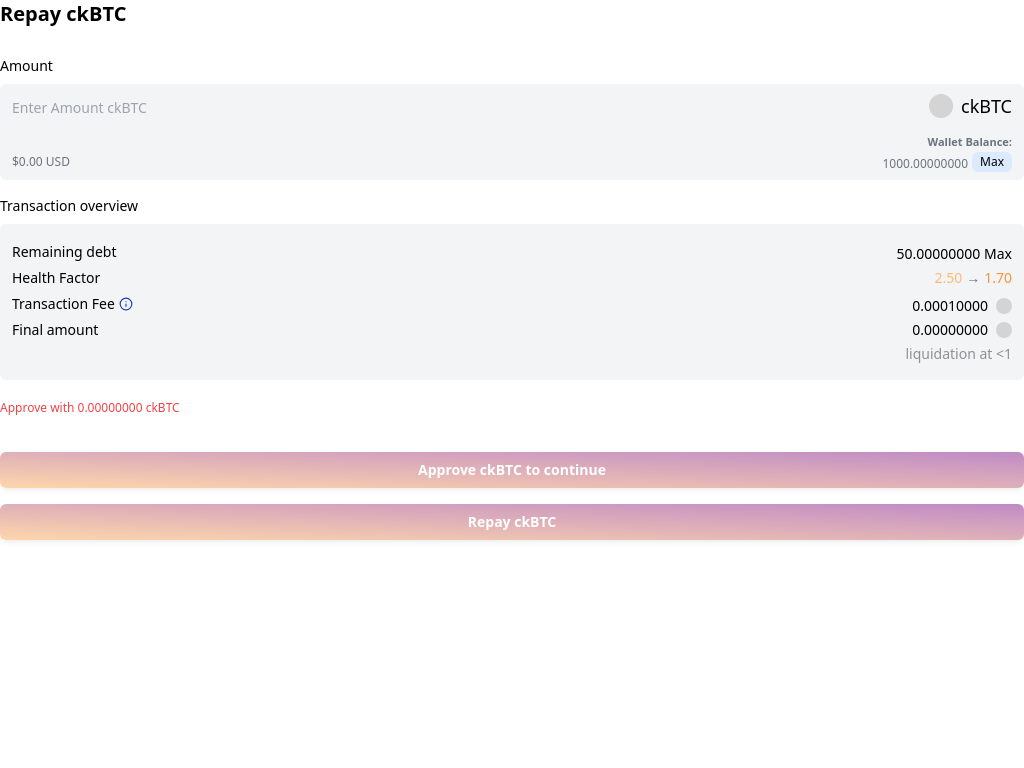
Test: Repay Component › handles Max button click correctly
What coordinates should you click on to do the following:
click the text "Max"
I would click on:
 (992, 162)
Its box is [972,152,1012,172].
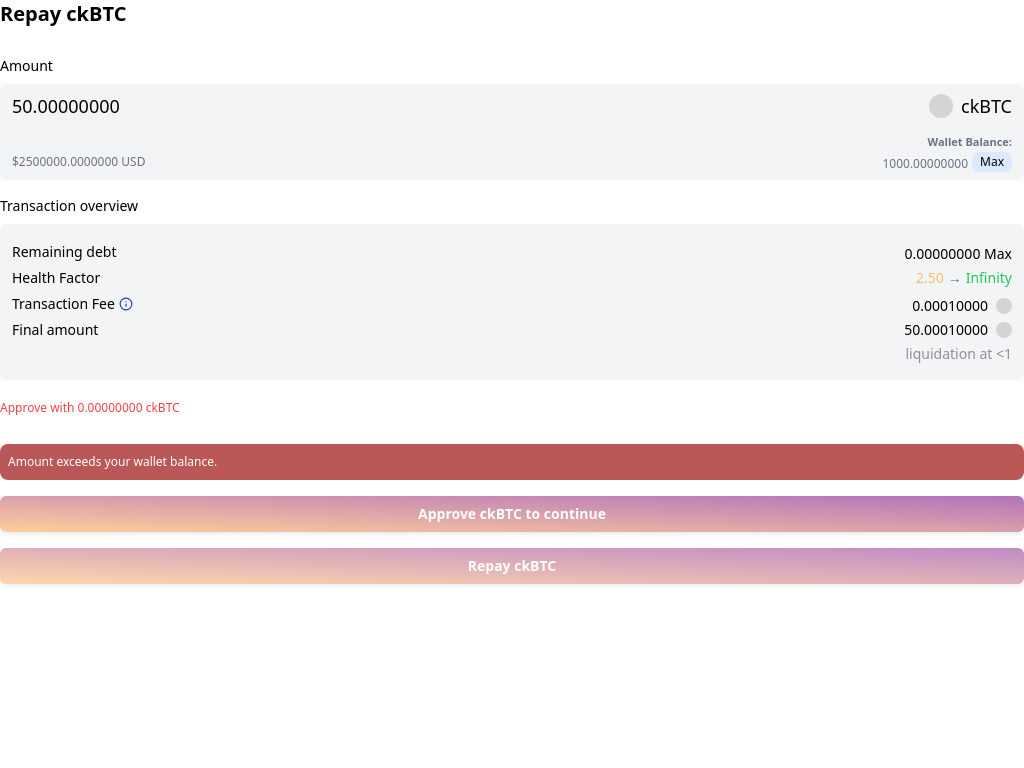
Now the field with placeholder "Enter Amount ckBTC" holds "50.00000000", box [12,92,462,120]
